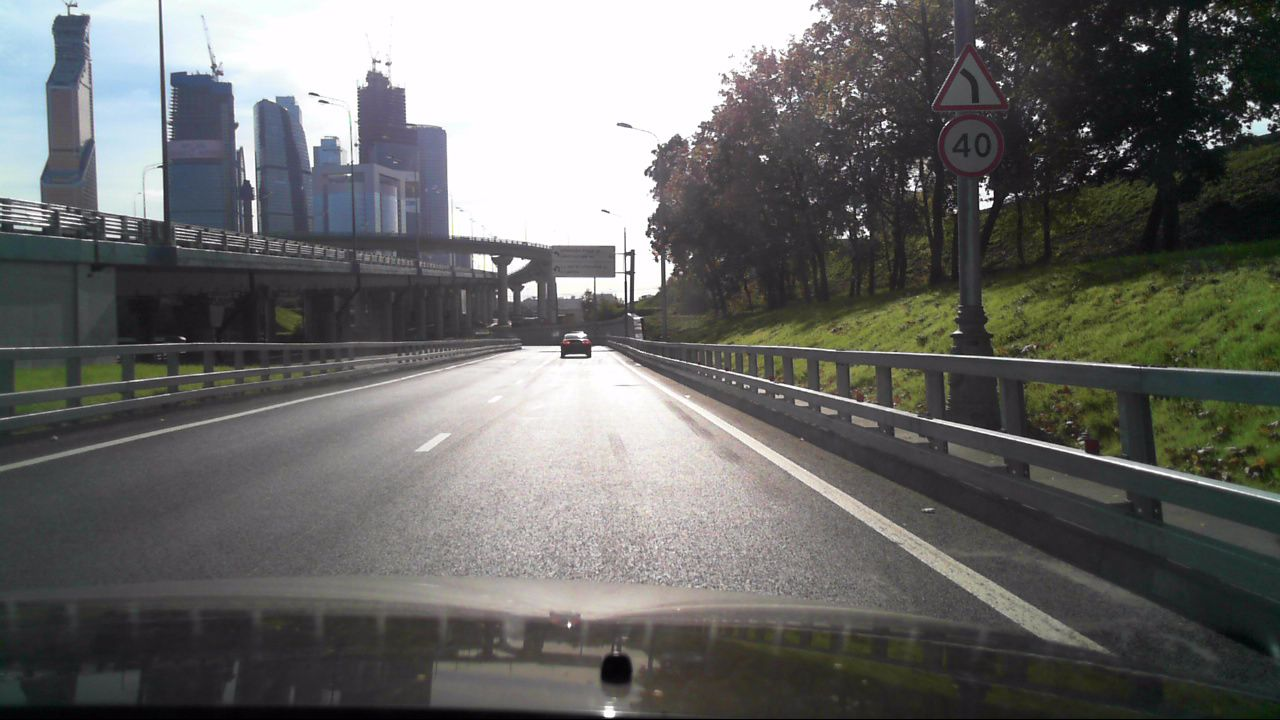speed_warning_40: (939, 107, 1006, 180)
